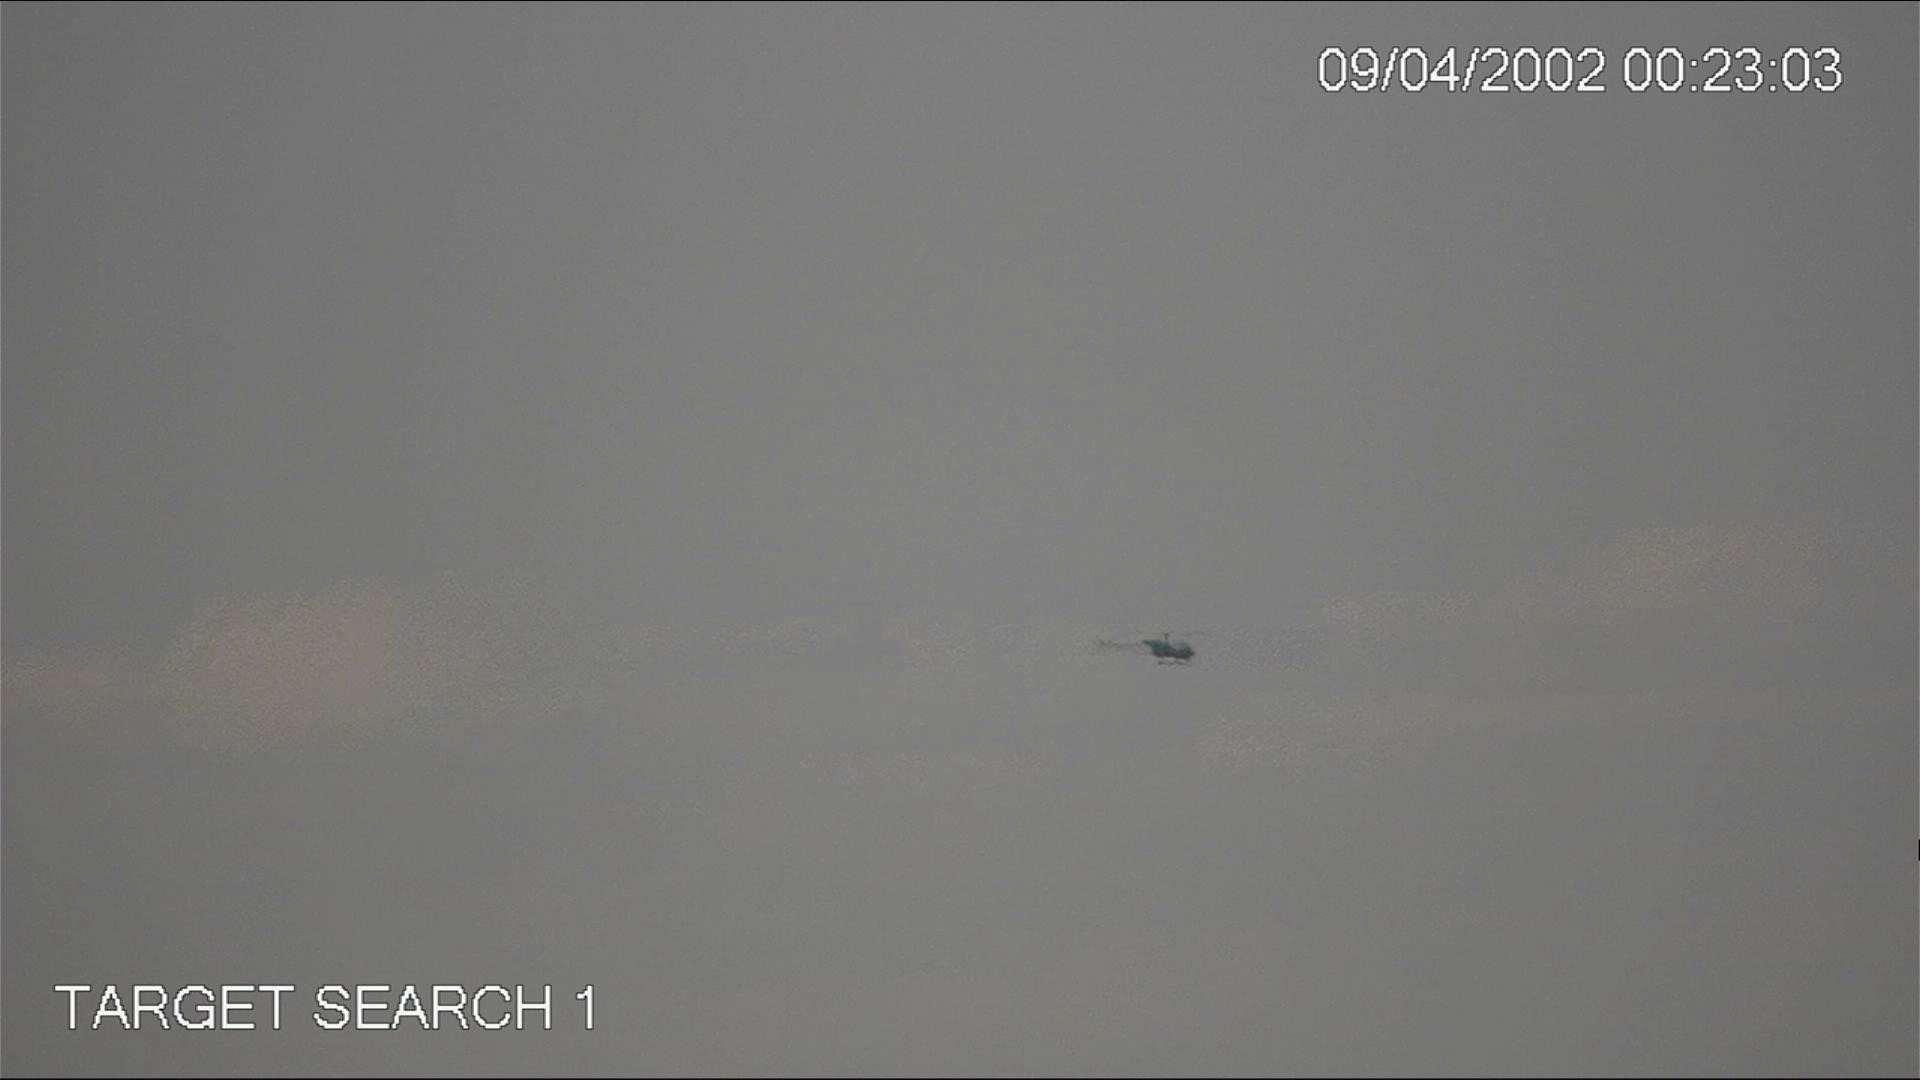SU_30: (1096, 629, 1204, 675)
